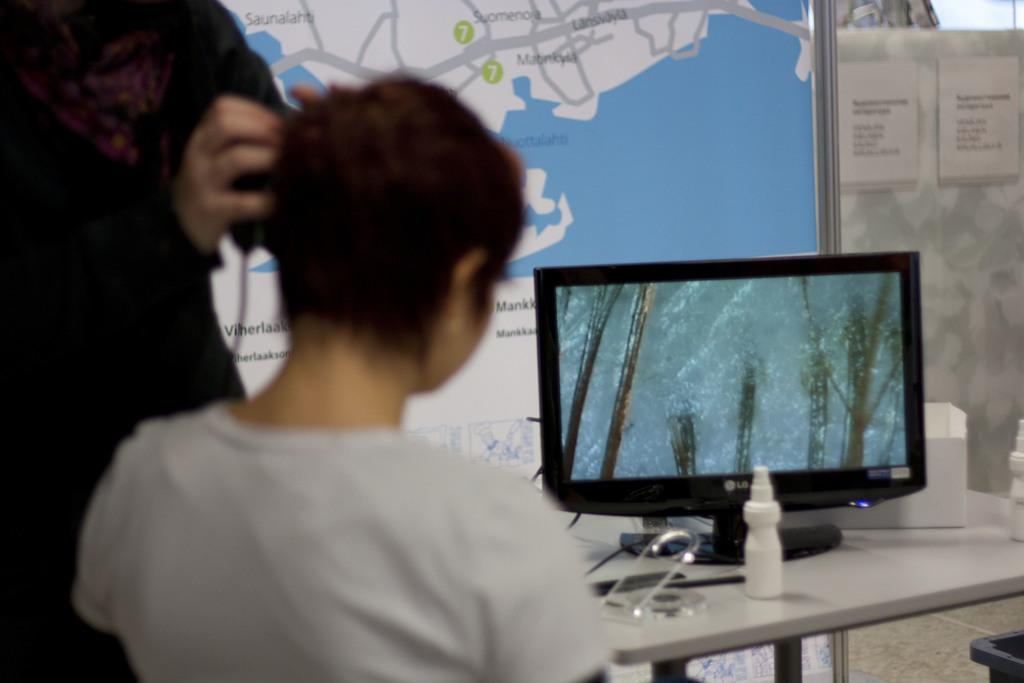Computer-monitor: (528, 245, 930, 558)
